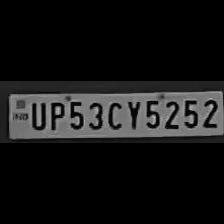2: (160, 97, 180, 129), (199, 96, 219, 128)
3: (86, 98, 104, 130)
5: (65, 98, 85, 130), (142, 96, 160, 130), (180, 96, 198, 128)
C: (104, 98, 124, 130)
P: (46, 98, 64, 130)
U: (27, 99, 45, 130)
Y: (123, 97, 141, 130)
